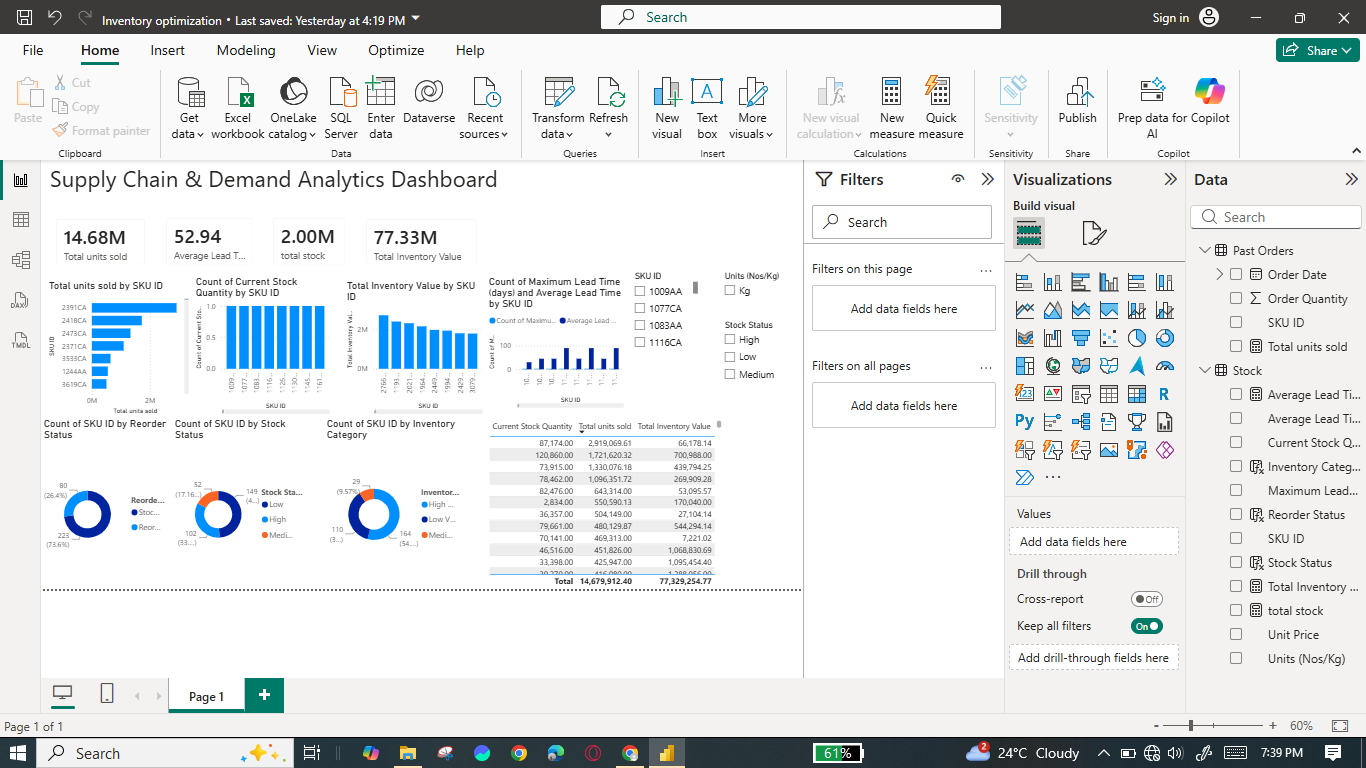

This screenshot's page, from the dashboard's own definition file:
{"tool":"powerbi","page":{"name":"Page 1","canvas":[1280,720],"ordinal":0},"visuals":[{"type":"cardVisual","fields":{"Data":["Past Orders.Total units sold"]},"box":[8.4,82.3,183.1,110.9],"z":0},{"type":"cardVisual","fields":{"Data":["Stock.Total Inventory Value"]},"box":[529.1,82.3,220.1,110.9],"z":1000},{"type":"cardVisual","fields":{"Data":["Stock.total stock"]},"box":[372.9,80.6,154.5,112.5],"z":2000},{"type":"cardVisual","fields":{"Data":["Stock.Average Lead Time"]},"box":[193.2,80.6,179.7,112.5],"z":3000},{"type":"barChart","fields":{"Category":["Past Orders.SKU ID"],"Y":["Past Orders.Total units sold"]},"box":[8.4,199.9,245.2,231.8],"z":4000},{"type":"columnChart","fields":{"Y":["CountNonNull(Stock.Current Stock Quantity)"],"Category":["Stock.SKU ID"]},"box":[255.3,193.2,235.2,238.5],"z":5000},{"type":"columnChart","fields":{"Category":["Stock.SKU ID"],"Y":["Stock.Total Inventory Value"]},"box":[509,199.9,238.5,231.8],"z":6000},{"type":"clusteredColumnChart","fields":{"Category":["Stock.SKU ID"],"Y":["CountNonNull(Stock.Maximum Lead Time (days))","Stock.Average Lead Time"]},"box":[747.5,193.2,236.9,228.5],"z":7000},{"type":"slicer","fields":{"Values":["Stock.SKU ID"]},"box":[984.4,181.4,124.3,151.2],"z":8000},{"type":"slicer","fields":{"Values":["Stock.Units (Nos/Kg)"]},"box":[1135.5,181.4,136.1,68.9],"z":9000},{"type":"donutChart","fields":{"Category":["Stock.Stock Status"],"Y":["CountNonNull(Stock.SKU ID)"]},"box":[220.1,431.7,230.1,288.9],"z":9001},{"type":"slicer","fields":{"Values":["Stock.Stock Status"]},"box":[1135.5,263.7,144.5,136.1],"z":9002},{"type":"donutChart","fields":{"Category":["Stock.Reorder Status"],"Y":["CountNonNull(Stock.SKU ID)"]},"box":[0,431.7,220.1,288.9],"z":9003},{"type":"donutChart","fields":{"Category":["Stock.Inventory Category"],"Y":["CountNonNull(Stock.SKU ID)"]},"box":[475.4,431.7,236.9,288.9],"z":9004},{"type":"tableEx","fields":{"Values":["Stock.Current Stock Quantity","Past Orders.Total units sold","Stock.Total Inventory Value"]},"box":[747.5,431.7,401.5,288.9],"z":9005},{"type":"textbox","box":[10.1,0,1236.3,90.7],"z":9006}]}

Visuals, with their boxes on the page's 1280x720 design canvas (x1, y1, x2, y2). These are canvas units, not pixel positions in the 1366x768 screenshot, which may show the page scaled, cropped or inside an application window:
cardVisual - Past Orders.Total units sold: box(8, 82, 192, 193)
cardVisual - Stock.Total Inventory Value: box(529, 82, 749, 193)
cardVisual - Stock.total stock: box(373, 81, 527, 193)
cardVisual - Stock.Average Lead Time: box(193, 81, 373, 193)
barChart - Past Orders.SKU ID x Past Orders.Total units sold: box(8, 200, 254, 432)
columnChart - CountNonNull(Stock.Current Stock Quantity) x Stock.SKU ID: box(255, 193, 490, 432)
columnChart - Stock.SKU ID x Stock.Total Inventory Value: box(509, 200, 748, 432)
clusteredColumnChart - Stock.SKU ID x CountNonNull(Stock.Maximum Lead Time (days)): box(748, 193, 984, 422)
slicer - Stock.SKU ID: box(984, 181, 1109, 333)
slicer - Stock.Units (Nos/Kg): box(1136, 181, 1272, 250)
donutChart - Stock.Stock Status x CountNonNull(Stock.SKU ID): box(220, 432, 450, 721)
slicer - Stock.Stock Status: box(1136, 264, 1280, 400)
donutChart - Stock.Reorder Status x CountNonNull(Stock.SKU ID): box(0, 432, 220, 721)
donutChart - Stock.Inventory Category x CountNonNull(Stock.SKU ID): box(475, 432, 712, 721)
tableEx - Stock.Current Stock Quantity x Past Orders.Total units sold: box(748, 432, 1149, 721)
textbox: box(10, 0, 1246, 91)
